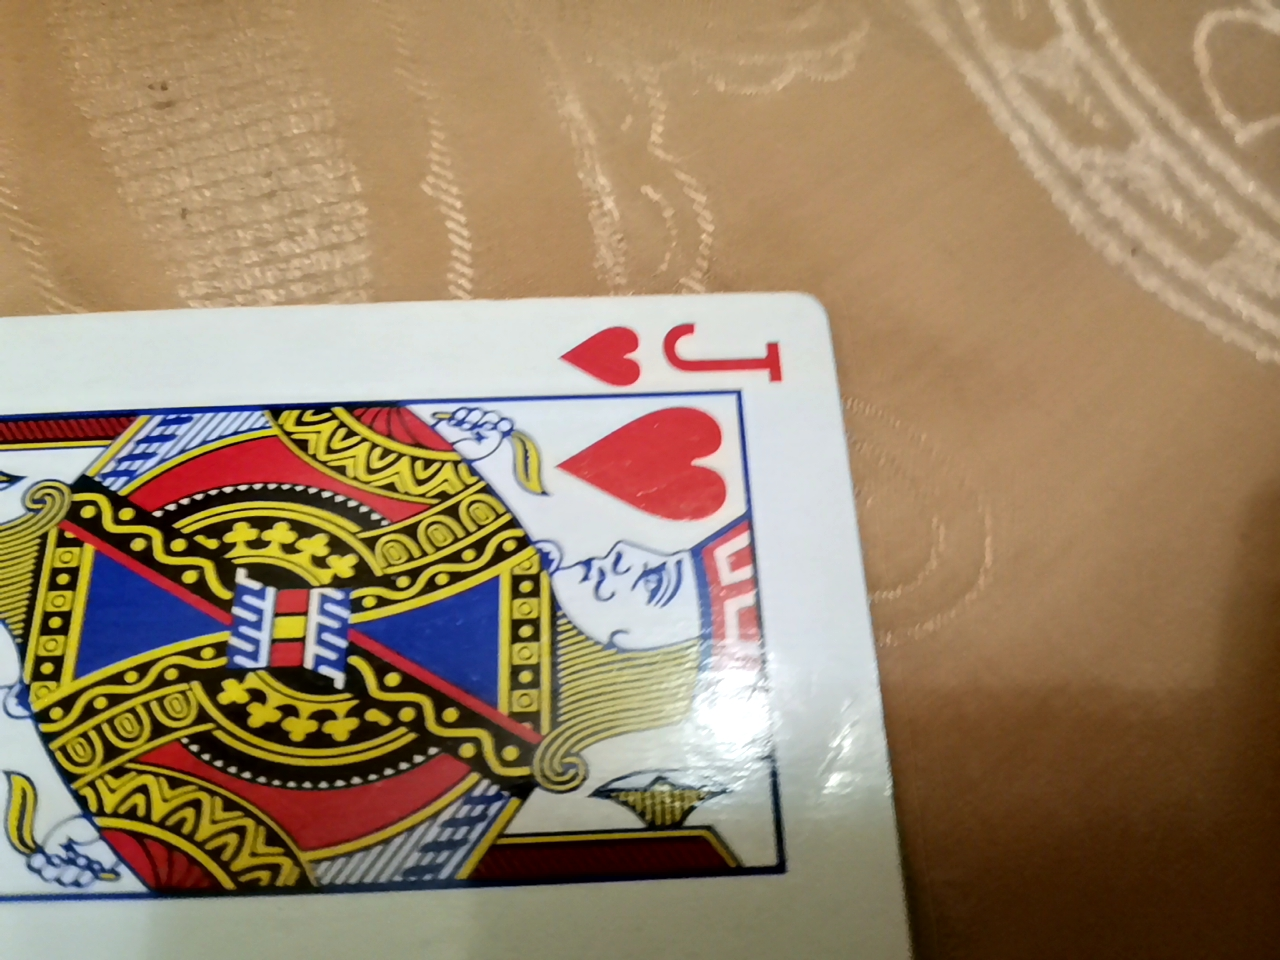hx j: (0, 218, 1004, 959)
